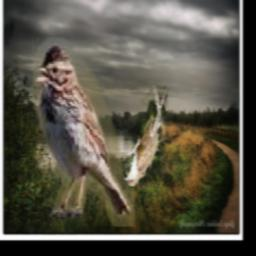Cuckoo: (124, 86, 168, 187)
Sparrow: (32, 38, 135, 228)
